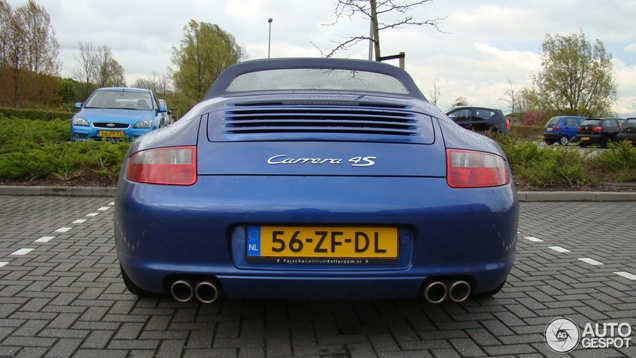number_plate: (244, 221, 403, 258)
